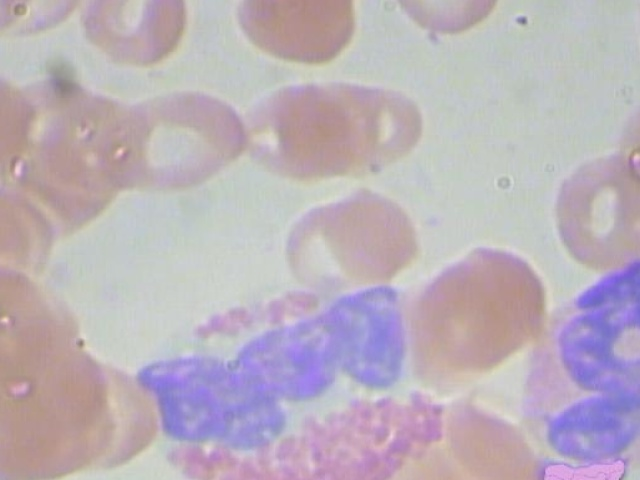RBC: (92, 78, 258, 201), (427, 230, 556, 370), (550, 145, 640, 268), (271, 192, 377, 295), (276, 72, 382, 175), (236, 78, 342, 181), (316, 177, 421, 280), (326, 65, 431, 168), (228, 0, 373, 67), (0, 258, 66, 386), (77, 0, 196, 66), (0, 74, 59, 172), (0, 187, 53, 288), (376, 0, 515, 37), (605, 83, 640, 185), (637, 0, 640, 79)
WBC: (127, 278, 466, 480), (508, 250, 640, 474)
